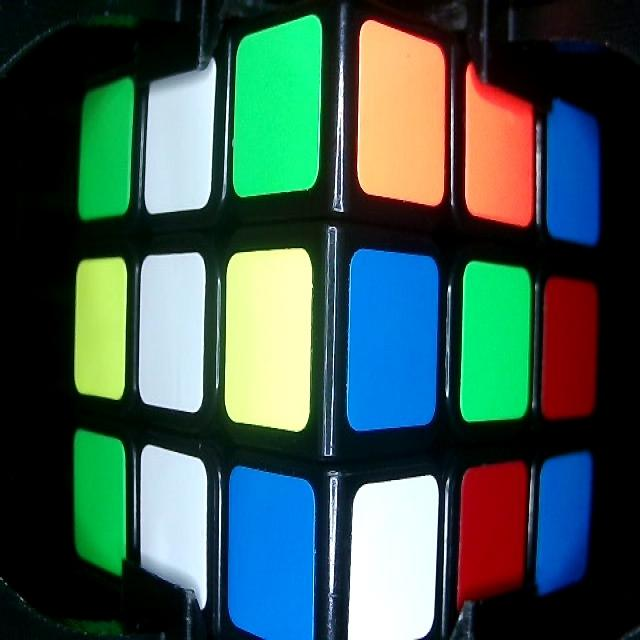b: (352, 249, 437, 421), (230, 470, 314, 640), (545, 97, 596, 245), (538, 455, 592, 589)
g: (234, 17, 321, 191), (462, 261, 527, 414), (76, 430, 126, 566), (81, 80, 131, 214)
o: (358, 18, 444, 200), (470, 64, 534, 222)
r: (462, 463, 527, 602), (546, 282, 594, 418)
w: (346, 479, 438, 640), (141, 444, 205, 610), (141, 253, 203, 411), (145, 73, 211, 206)
y: (225, 250, 310, 429), (77, 258, 124, 399)
